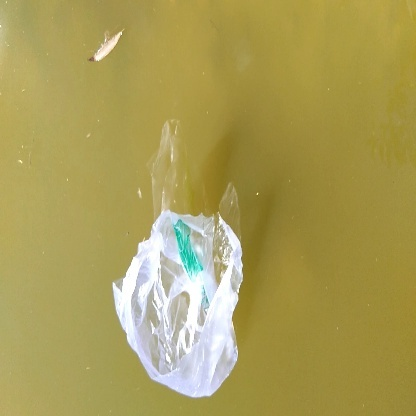plastic-bag: (109, 202, 255, 398)
